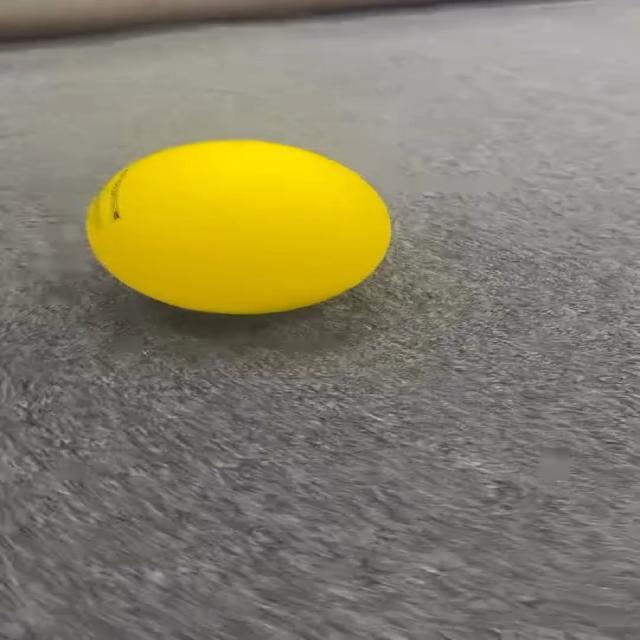Fuels: (87, 141, 389, 311)
